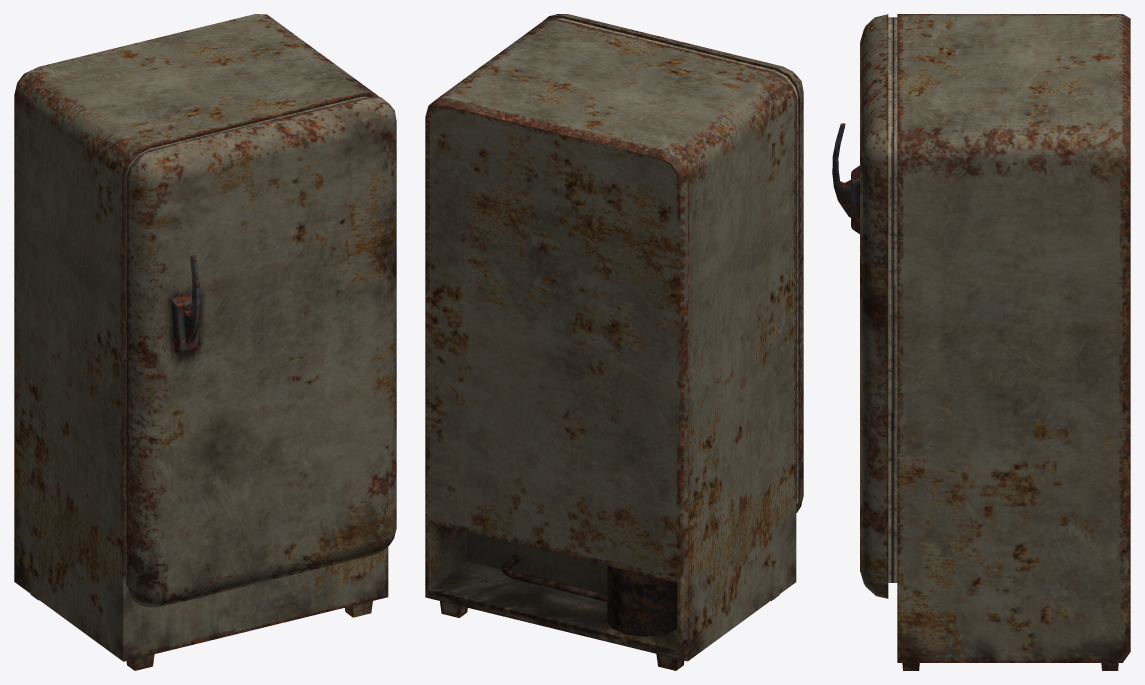
The picture shows the model from 3 angles, left to right: view 1: azimuth 30°, elevation 25°; view 2: azimuth 150°, elevation 25°; view 3: azimuth 270°, elevation 25°; orthographic projection. The views are drawn at different scales.
Visible parts, largest first — view 1: Door, Refrigerator; view 2: Refrigerator, Door; view 3: Refrigerator, Door.
Boxes of the visible parts, x1,y1,x2,y2 form: Door: (128, 97, 396, 607); Refrigerator: (14, 14, 388, 670); Refrigerator: (425, 18, 798, 670); Door: (545, 14, 803, 512); Refrigerator: (888, 14, 1130, 670); Door: (832, 14, 888, 598).
Size of the model in its own units: 103 by 194 by 96.9.
1 material, 1 textured.
